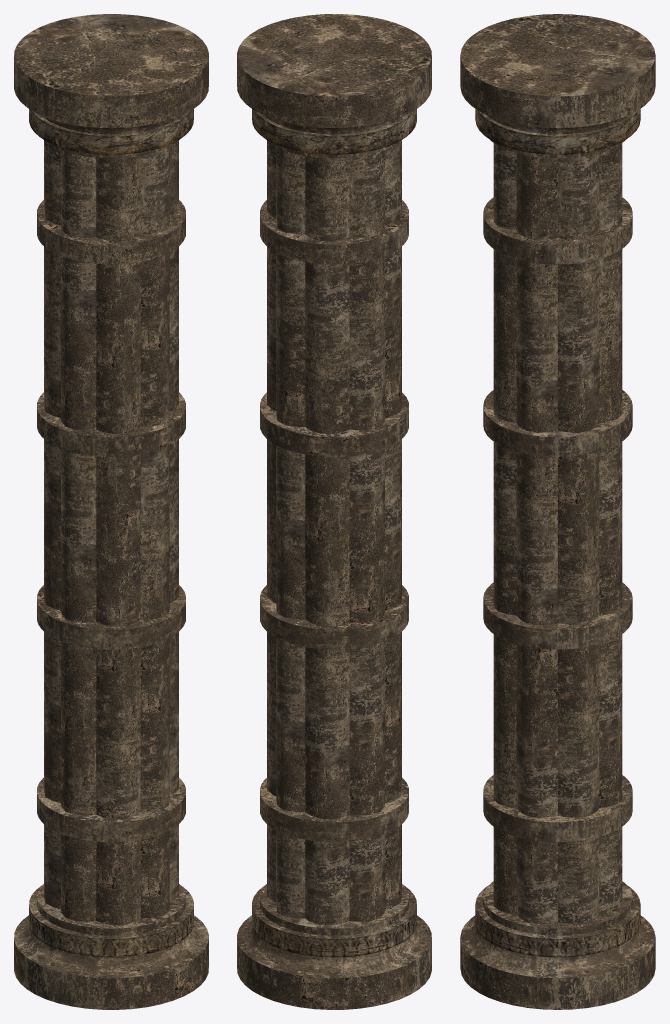
File: materials_5_pillar_long_7.fbx
3 renders of one model, left to right at view 1: azimuth 30°, elevation 25°; view 2: azimuth 150°, elevation 25°; view 3: azimuth 270°, elevation 25°, orthographic.
Visible parts, largest first — view 1: materials_5_pillar_long_7; view 2: materials_5_pillar_long_7; view 3: materials_5_pillar_long_7.
Part boxes in pixels (x1=…): materials_5_pillar_long_7: x1=14, y1=14, x2=208, y2=1009; materials_5_pillar_long_7: x1=237, y1=14, x2=431, y2=1009; materials_5_pillar_long_7: x1=460, y1=14, x2=655, y2=1009.
Bounding box in the file's own units: 60.99 × 315 × 60.99.
